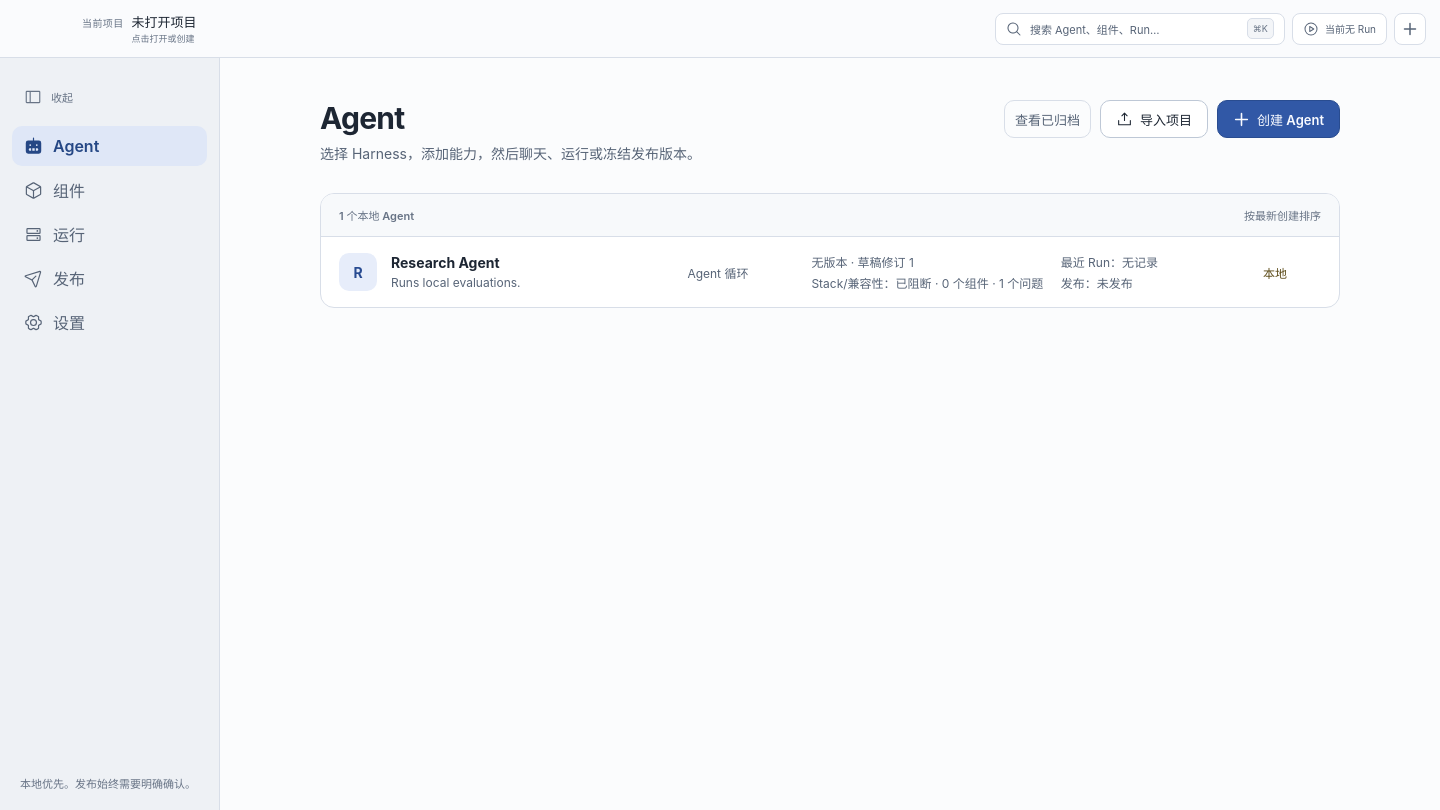
Test: App › duplicates and archives an Agent through keyboard-reachable detail actions
Click the button "Research Agent" at (830, 272), box top-left (321, 237), bottom-right (1339, 307)
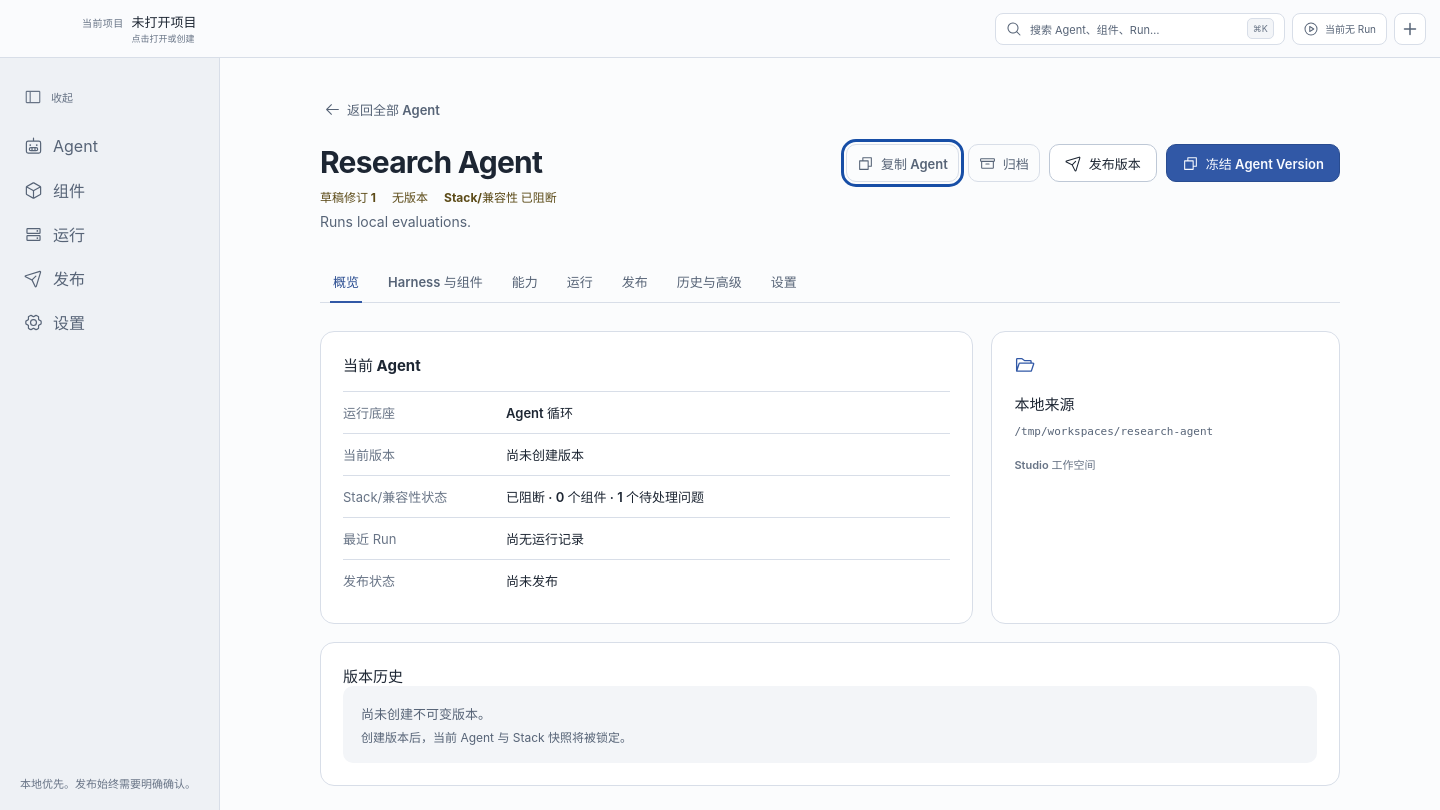
Press Enter
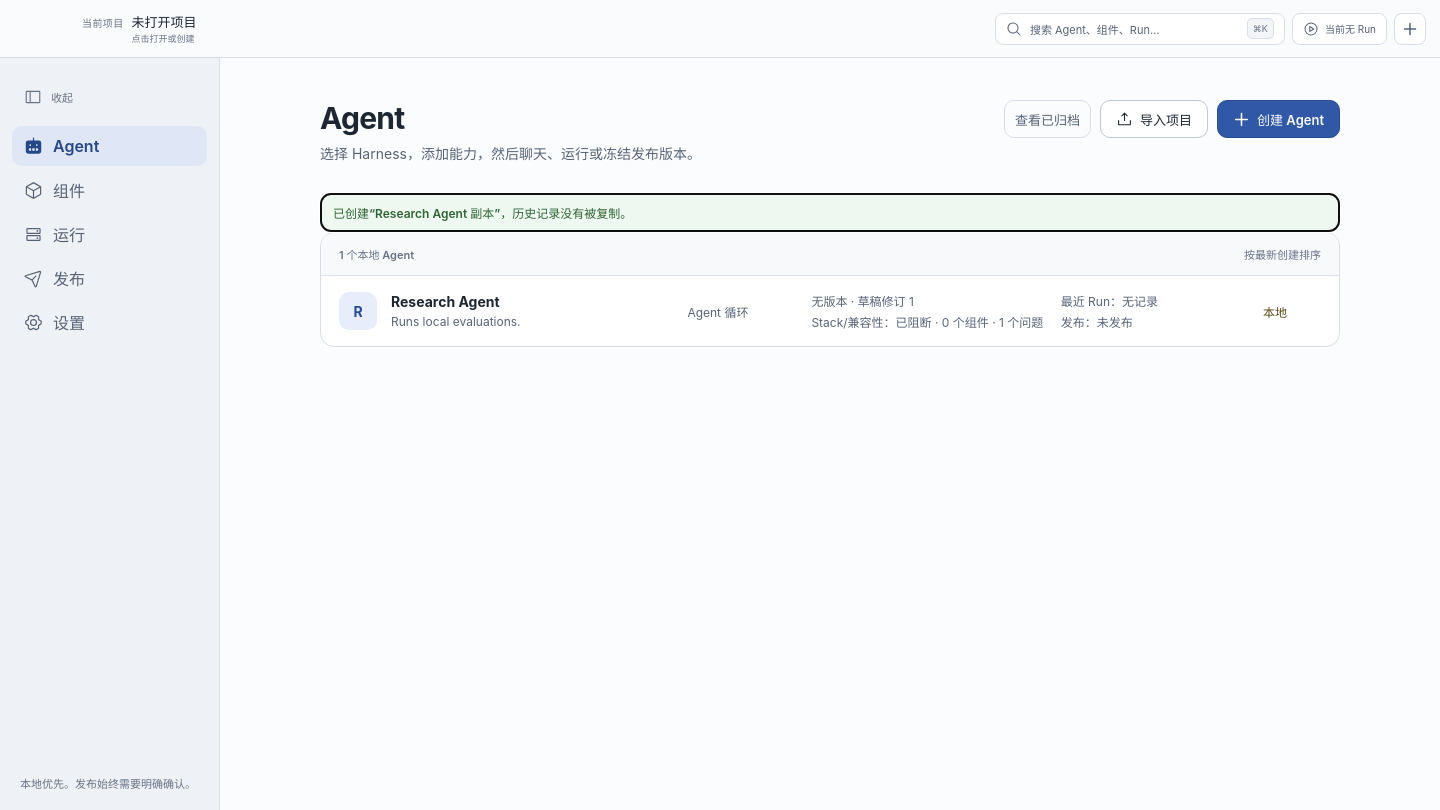
Expected: the text "已创建“Research Agent 副本”，历史记录没有被复制。" is shown, top-left (320, 193), bottom-right (1340, 232)
Click the button "Research Agent" at (830, 311), box top-left (321, 276), bottom-right (1339, 346)
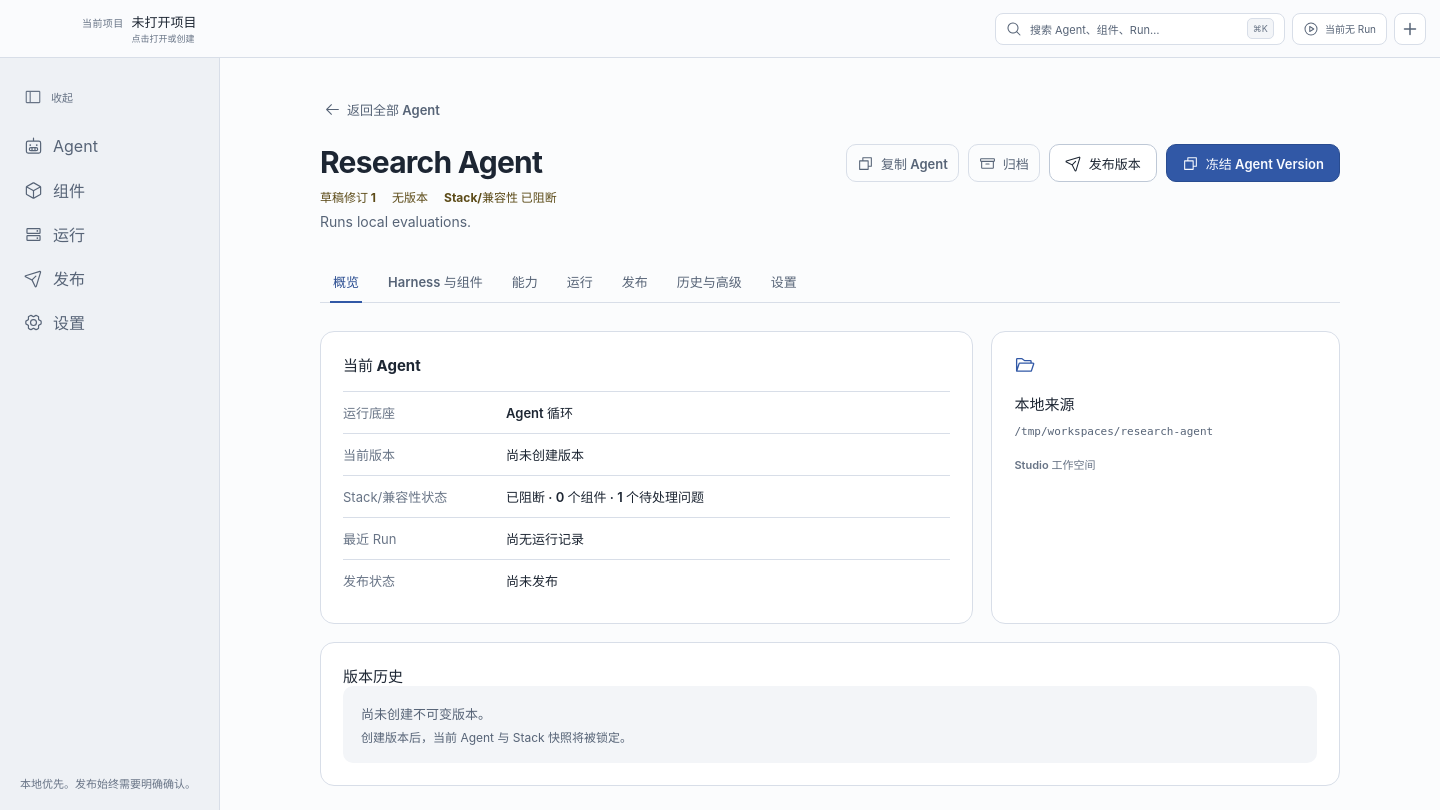
Click the button "归档" at (1004, 163), box top-left (968, 144), bottom-right (1040, 182)
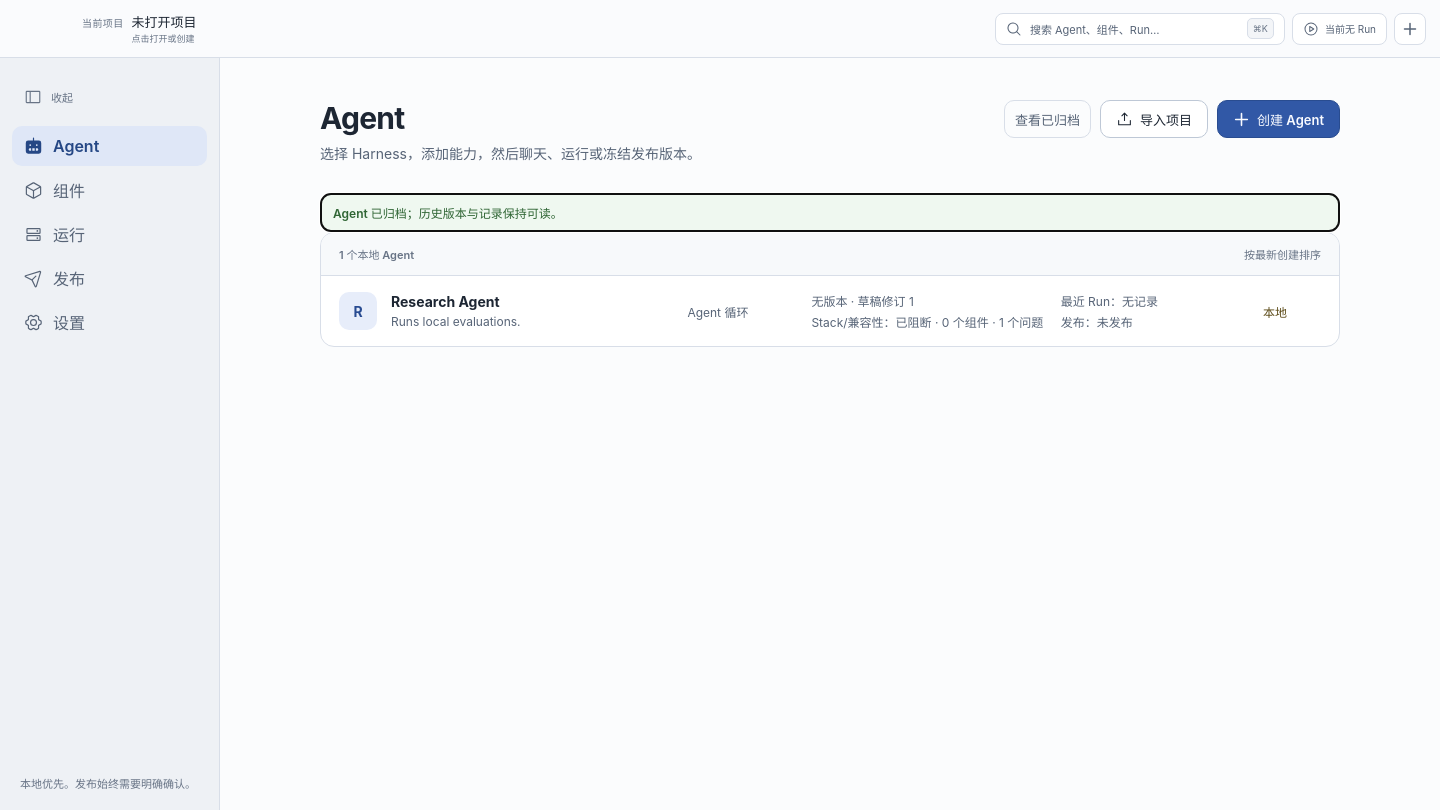
Expected: the text "Agent 已归档；历史版本与记录保持可读。" is shown, top-left (320, 193), bottom-right (1340, 232)
